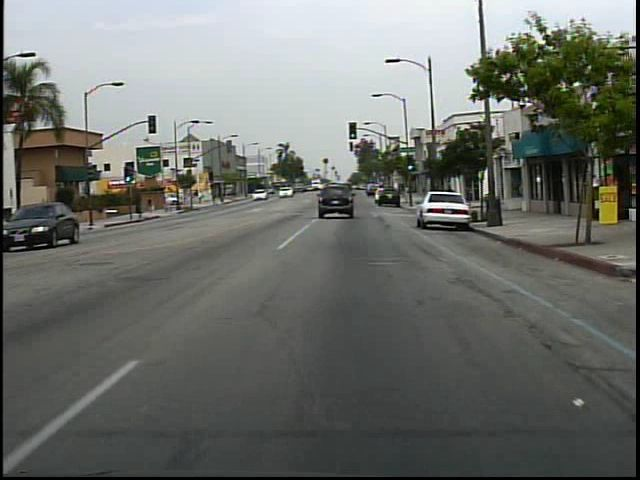person: (438, 180, 459, 217), (142, 191, 161, 220), (197, 188, 206, 207)
